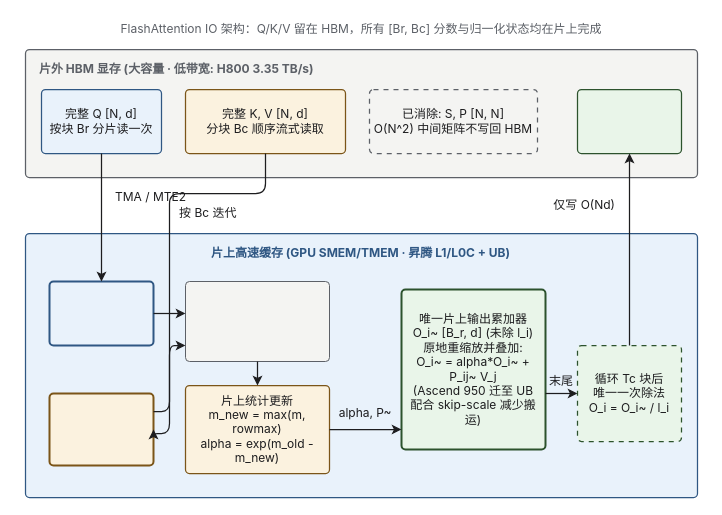
This 722x515 diagram has some shape labels left out. Here are the shapes that lost their labels. From the top down, the centre of each, then its label:
pixel 629 121: 最终 O [N, d] 仅循环末尾写回一次
pixel 101 313: 常驻切片 Q_i [B_r, d]
pixel 257 321: 局部矩阵乘 S_ij = Q_i K_j^T / sqrt(d) 仅占 [B_r, B_c] 用完即丢
pixel 101 429: 当前分块 Tile K_j, V_j [B_c, d] (双缓冲覆写)
